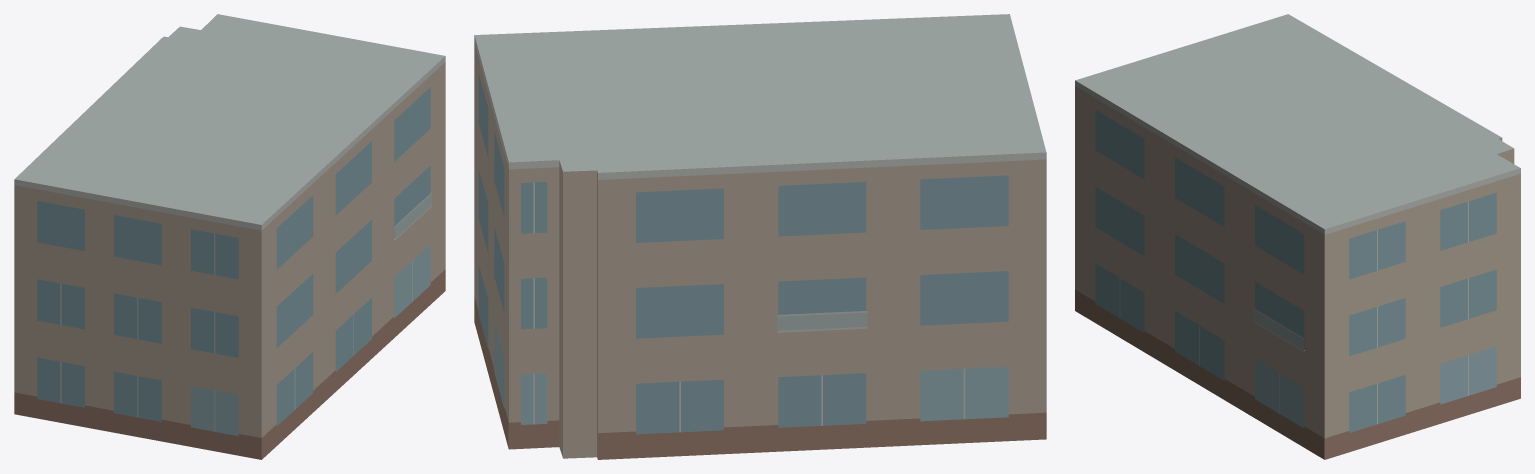
The model's file is survey-upis-32526302.glb.
3 renders of one model, left to right at view 1: azimuth 30°, elevation 25°; view 2: azimuth 150°, elevation 25°; view 3: azimuth 270°, elevation 25°, orthographic. The views are drawn at different scales.
Visible parts, largest first — view 1: survey-upis-32526302.tmp; view 2: survey-upis-32526302.tmp; view 3: survey-upis-32526302.tmp.
Boxes of the visible parts, x1,y1,x2,y2 form: survey-upis-32526302.tmp: (14, 14, 445, 459); survey-upis-32526302.tmp: (474, 14, 1046, 459); survey-upis-32526302.tmp: (1075, 14, 1520, 459).
Size of the model in its own units: 20.05 by 10 by 17.53.
